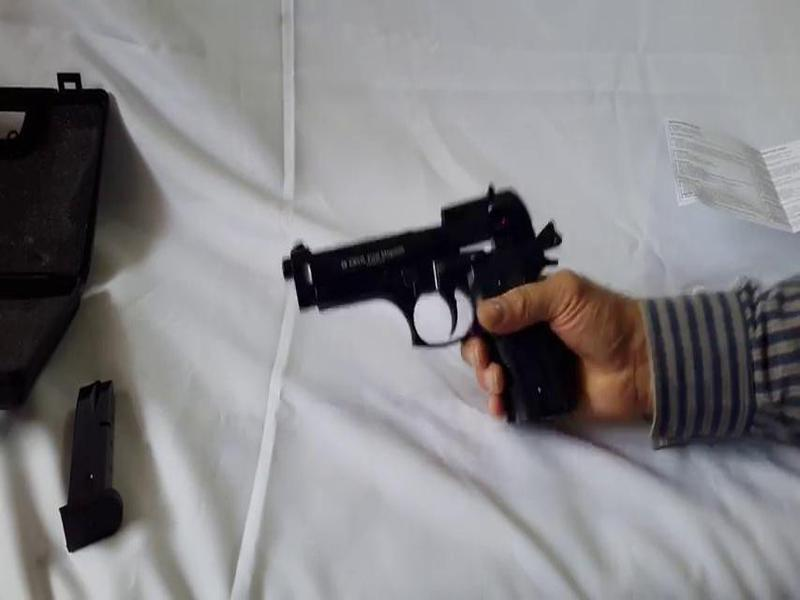Pistola: (265, 167, 598, 437)
